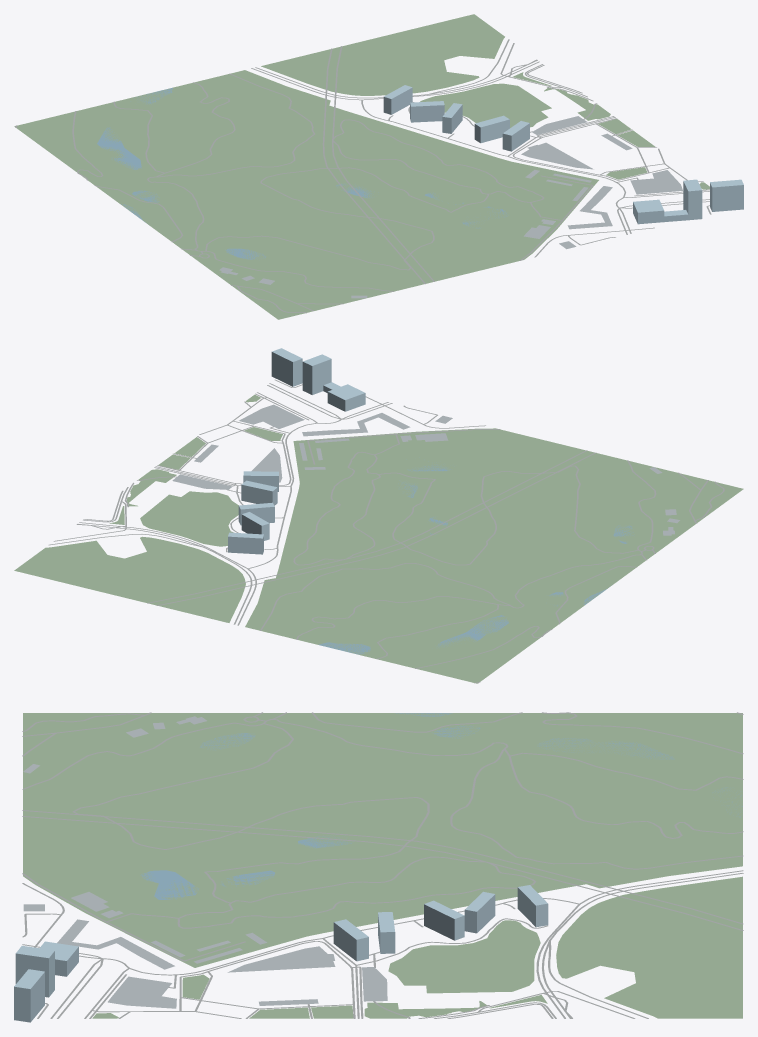
File: -5_7-known-coarse.glb
The picture shows the model from 3 angles, top to bottom: view 1: azimuth 30°, elevation 25°; view 2: azimuth 150°, elevation 25°; view 3: azimuth 270°, elevation 25°; orthographic projection. The views are drawn at different scales.
Bounding box in the file's own units: 1014 × 60 × 1009.
